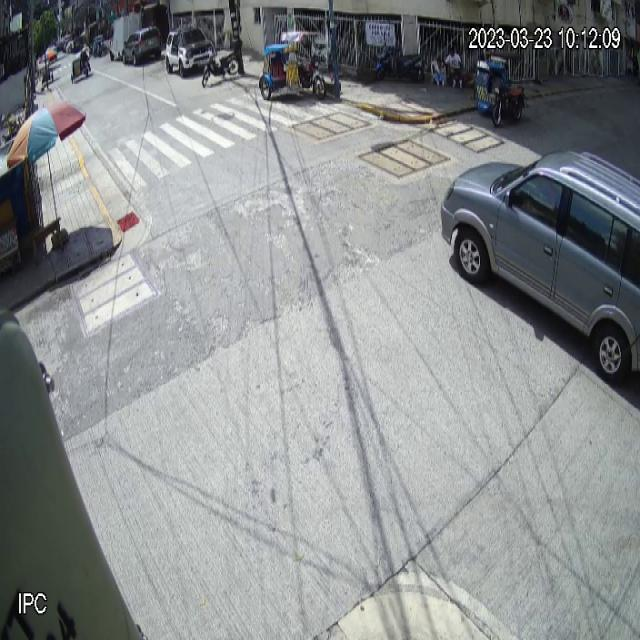Car: (439, 146, 640, 386)
Motorcycle: (201, 49, 241, 89)
Tricycle: (258, 30, 327, 101), (475, 50, 525, 128)
